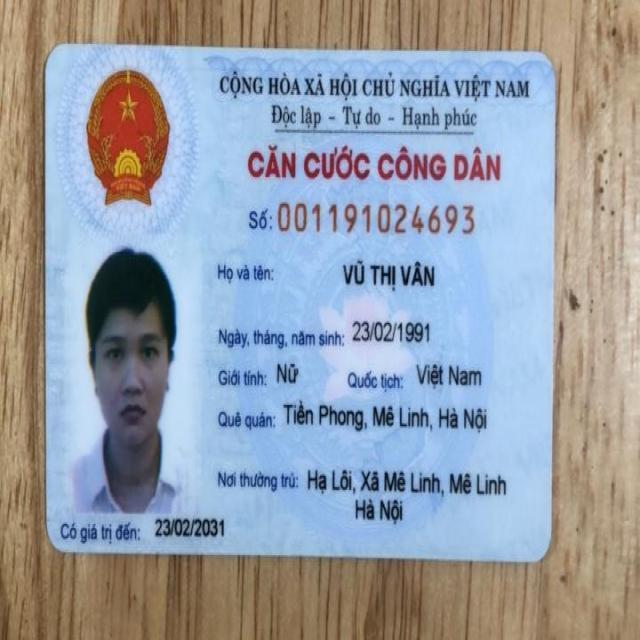bottom_left: (38, 516, 79, 563)
bottom_right: (514, 524, 566, 574)
image_person: (64, 236, 208, 510)
top_left: (32, 33, 74, 82)
top_right: (521, 38, 575, 86)
